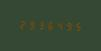five: (71, 20, 79, 32)
four: (53, 20, 61, 31)
nine: (26, 19, 34, 30), (62, 20, 70, 31)
six: (44, 19, 52, 31)
three: (35, 19, 43, 30)
two: (17, 18, 25, 30)
